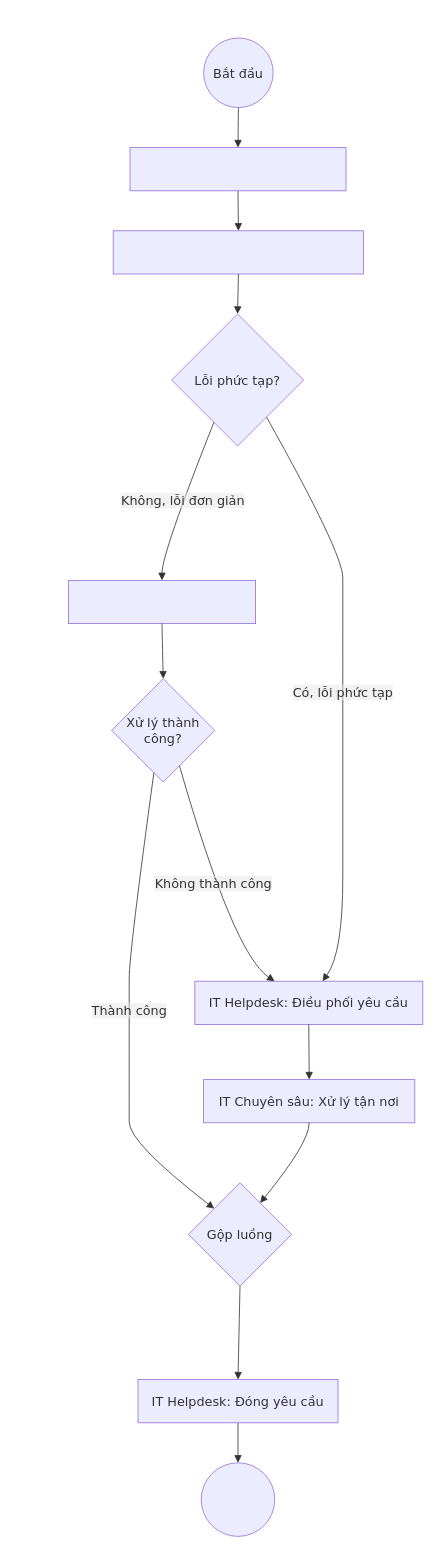
This 437x1550 diagram has some shape labels left out. The shapes that lost their labels are listed below. From the top down, each one's centre as x and y in pixels, then its label:
At pixel 237 169: "Nhân viên: Tạo ticket báo lỗi".
At pixel 238 252: "IT Helpdesk: Tiếp nhận & Phân loại".
At pixel 162 602: "IT Helpdesk: Xử lý từ xa".
At pixel 237 1499: "Kết thúc".
